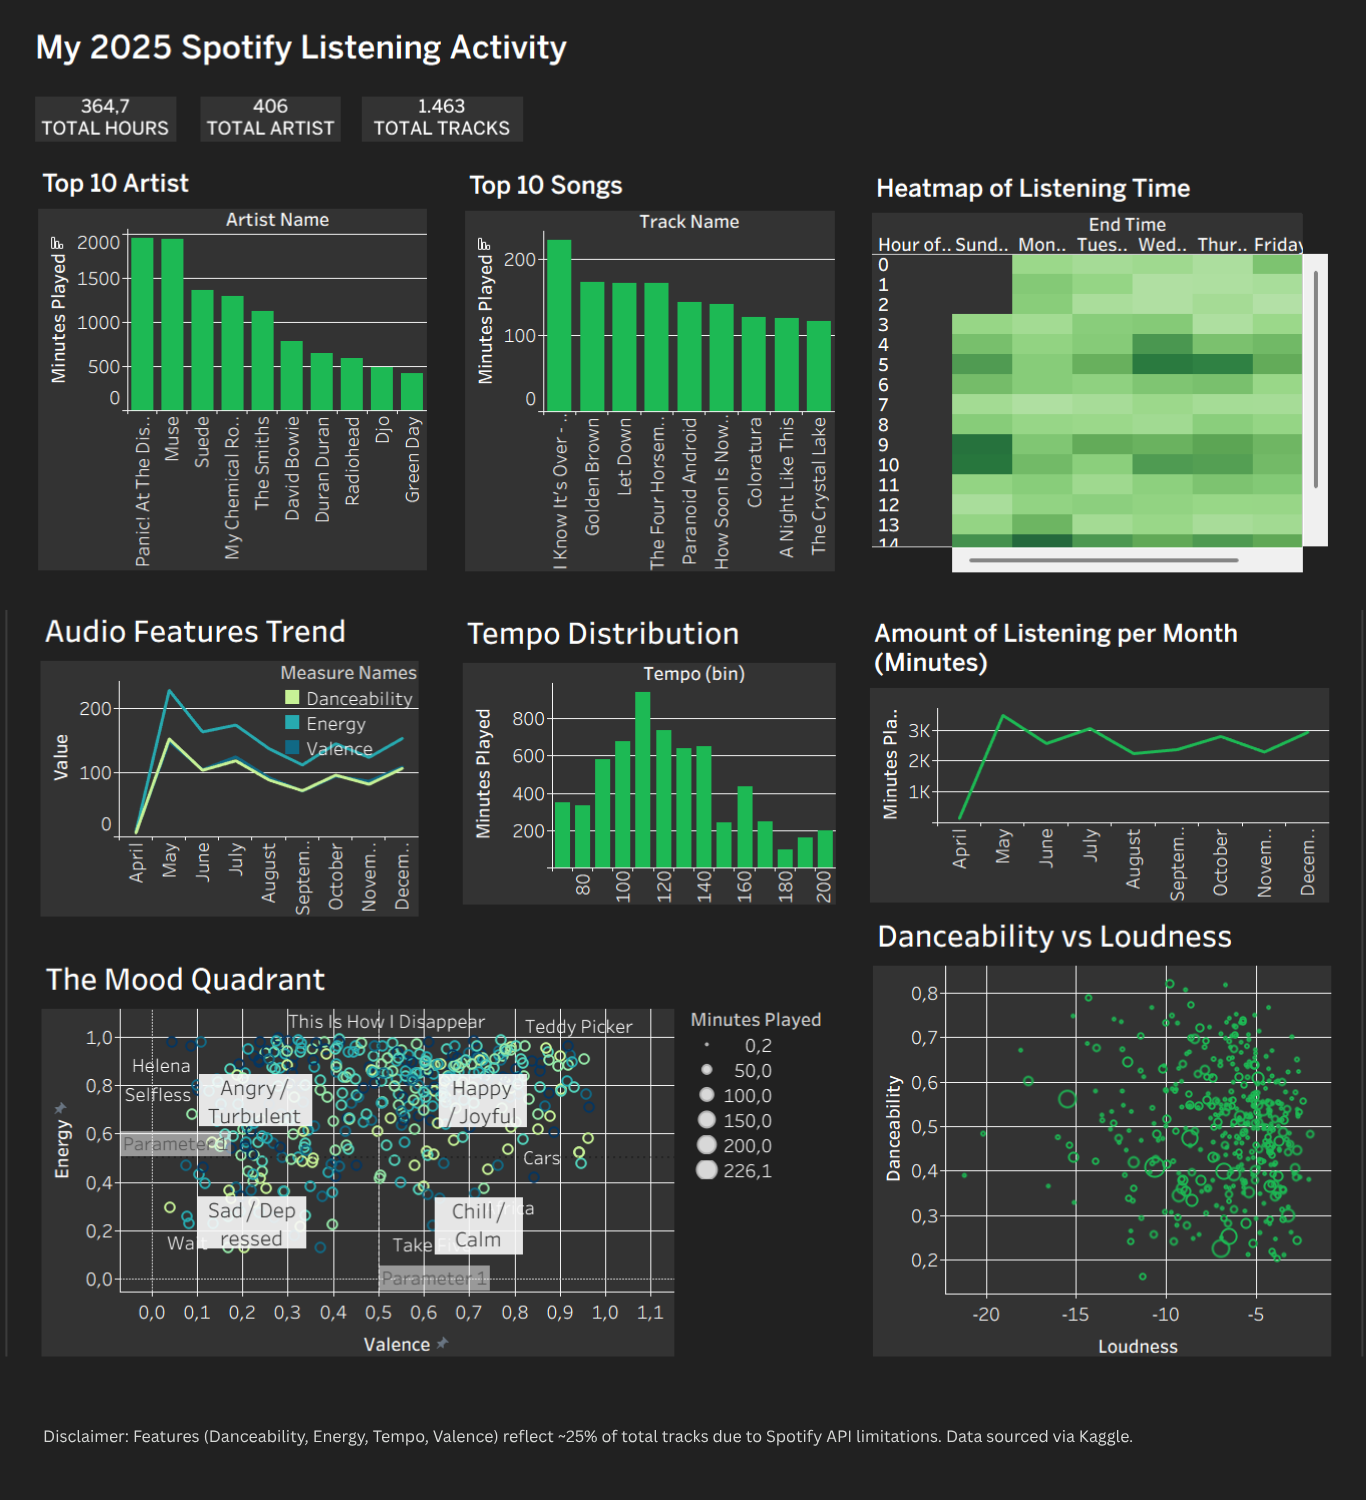

Layout of this report page (visuals, bound fields, positions):
{"tool":"tableau","page":{"name":"Dashboard 1","canvas":[1366,1500],"ordinal":0},"visuals":[{"type":"text","box":[8,8,1350,1484]},{"type":"text","box":[32,47,956,58]},{"type":"worksheet","title":"Sheet 5","mark":"Automatic","box":[36,125,216,96]},{"type":"worksheet","title":"Sheet 6","mark":"Automatic","box":[201,125,140,94]},{"type":"worksheet","title":"Sheet 7","mark":"Automatic","box":[362,125,178,102]},{"type":"worksheet","title":"Sheet 1","mark":"Automatic","rows":["minutesPlayed"],"cols":["artistName"],"box":[39,193,388,405]},{"type":"worksheet","title":"Sheet 2","mark":"Automatic","rows":["minutesPlayed"],"cols":["trackName"],"box":[465,195,369,404]},{"type":"worksheet","title":"Sheet 8","mark":"Automatic","rows":["endTime"],"cols":["endTime"],"box":[871,198,455,402]},{"type":"worksheet","title":"Sheet 10","mark":"Automatic","cols":["endTime"],"box":[41,632,377,311]},{"type":"worksheet","title":"Sheet 11","mark":"Automatic","rows":["minutesPlayed"],"cols":["Tempo (bin)"],"box":[462,634,372,297]},{"type":"worksheet","title":"Sheet 3","mark":"Automatic","rows":["minutesPlayed"],"cols":["endTime"],"box":[868,642,458,287]},{"type":"legend","title":"Sheet 10","param":"[federated.0s953h01gnsrdf13xydfo0c9ozez].[:Measure Names]","box":[280,686,140,101]},{"type":"worksheet","title":"Sheet 12","mark":"Automatic","rows":["danceability"],"cols":["loudness"],"box":[871,936,457,454]},{"type":"worksheet","title":"Sheet 9","mark":"Automatic","rows":["energy"],"cols":["valence"],"box":[42,979,631,409]},{"type":"legend","title":"Sheet 12","param":"[federated.0s953h01gnsrdf13xydfo0c9ozez].[sum:minutesPlayed:qk]","box":[689,1032,136,180]},{"type":"text","box":[37,1416,1289,69]}]}

Visuals, with their boxes in screenshot pixels (x1, y1, x2, y2), scaled from the page's 1366x1500 canvas onto the 1366x1500 screenshot:
text: (8, 8, 1358, 1492)
text: (32, 47, 988, 105)
"Sheet 5" worksheet: (36, 125, 252, 221)
"Sheet 6" worksheet: (201, 125, 341, 219)
"Sheet 7" worksheet: (362, 125, 540, 227)
"Sheet 1" worksheet: (39, 193, 427, 598)
"Sheet 2" worksheet: (465, 195, 834, 599)
"Sheet 8" worksheet: (871, 198, 1326, 600)
"Sheet 10" worksheet: (41, 632, 418, 943)
"Sheet 11" worksheet: (462, 634, 834, 931)
"Sheet 3" worksheet: (868, 642, 1326, 929)
"Sheet 10" legend: (280, 686, 420, 787)
"Sheet 12" worksheet: (871, 936, 1328, 1390)
"Sheet 9" worksheet: (42, 979, 673, 1388)
"Sheet 12" legend: (689, 1032, 825, 1212)
text: (37, 1416, 1326, 1485)
